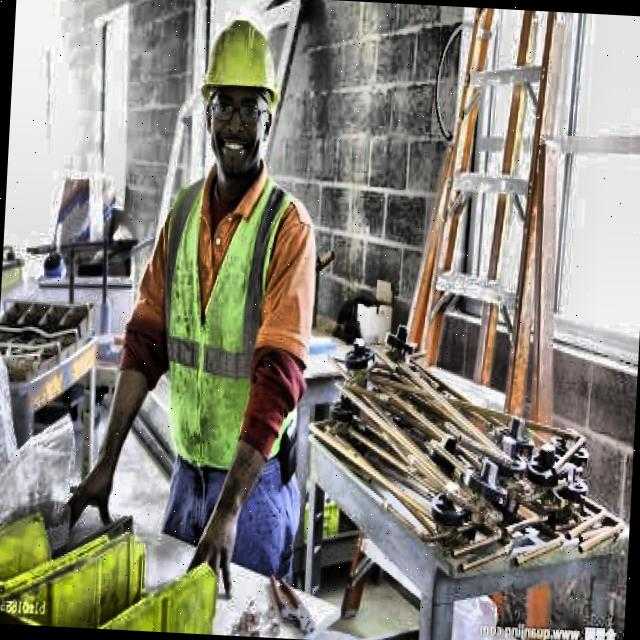helmet: (188, 1, 292, 192)
